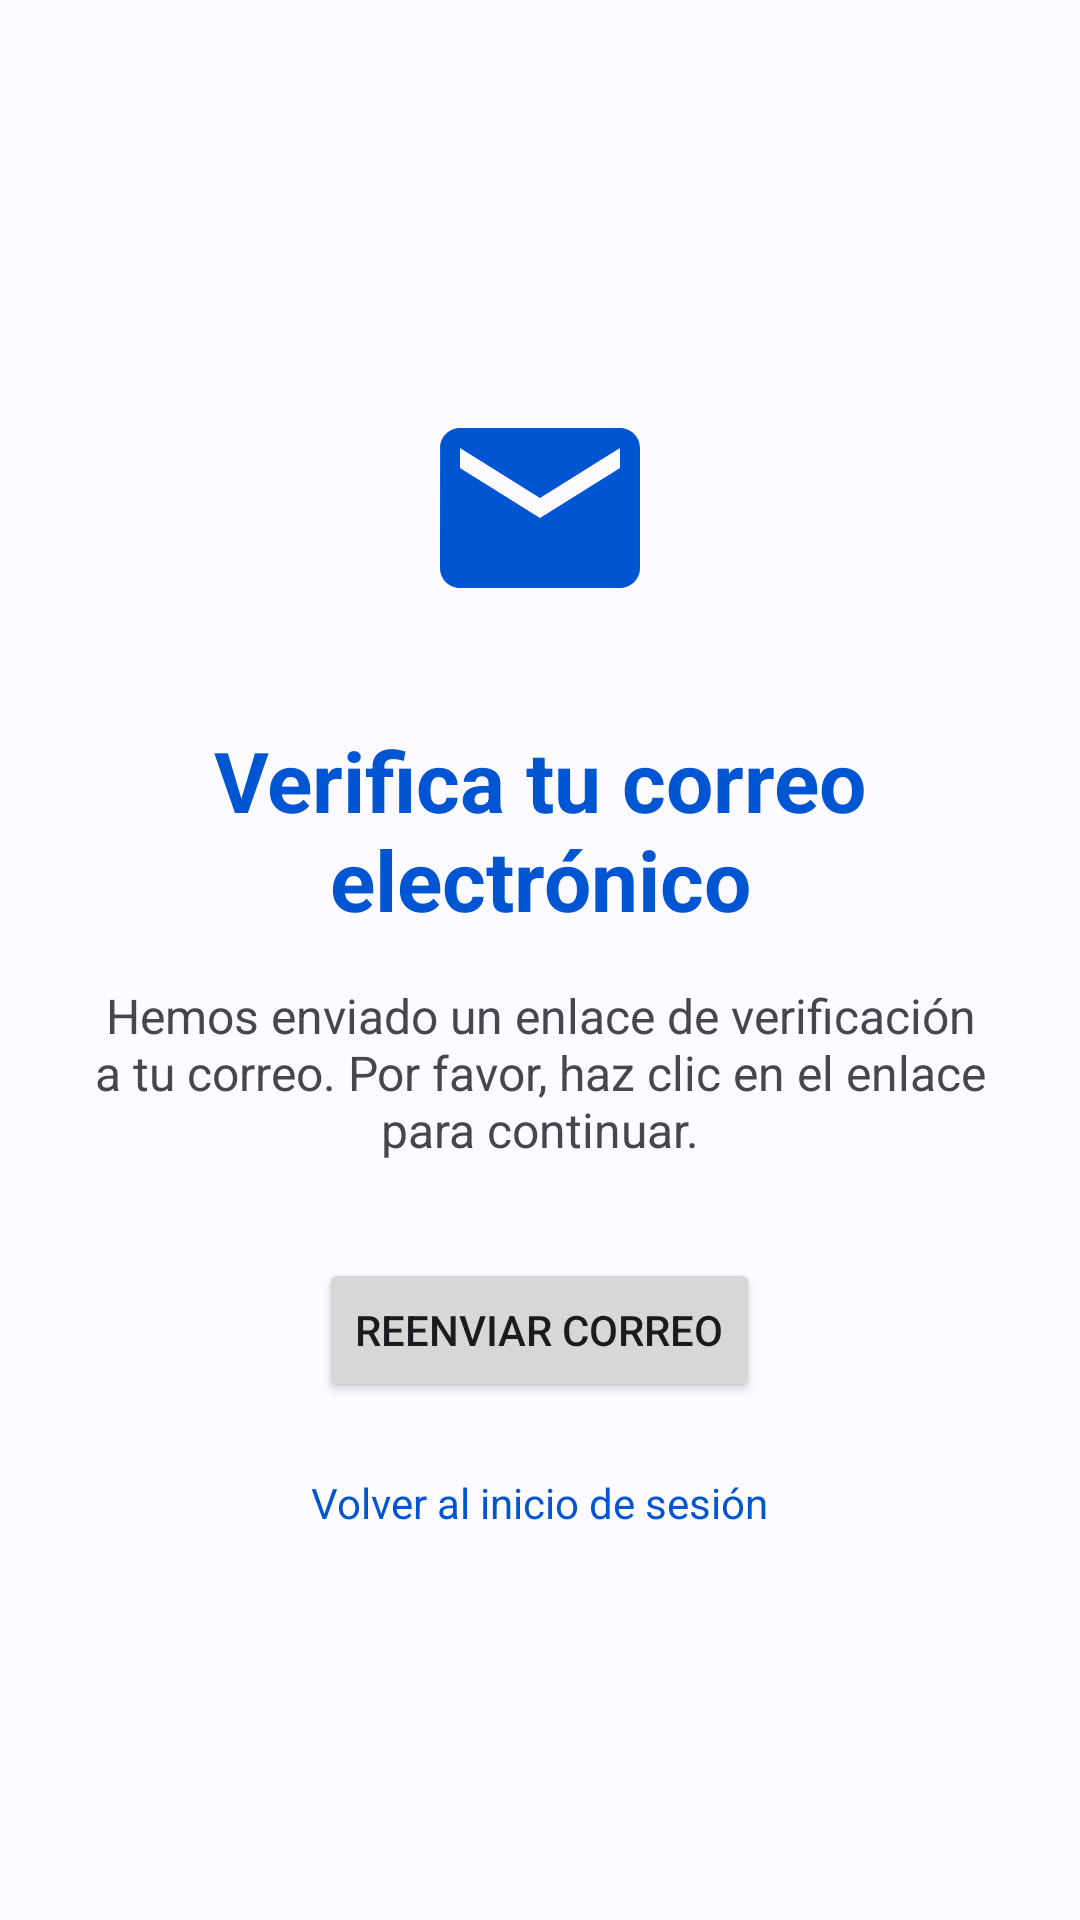

Screen size 1080*1920. Icon name, then its center in pixels as (x=x, y=y):
email: (x=540, y=508)
